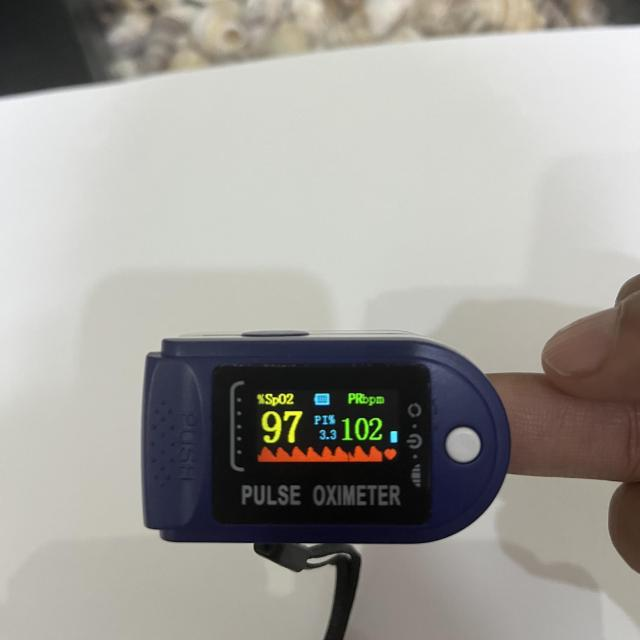spo2: (146, 338, 509, 546)
